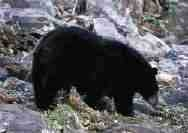bear: (33, 5, 161, 133)
